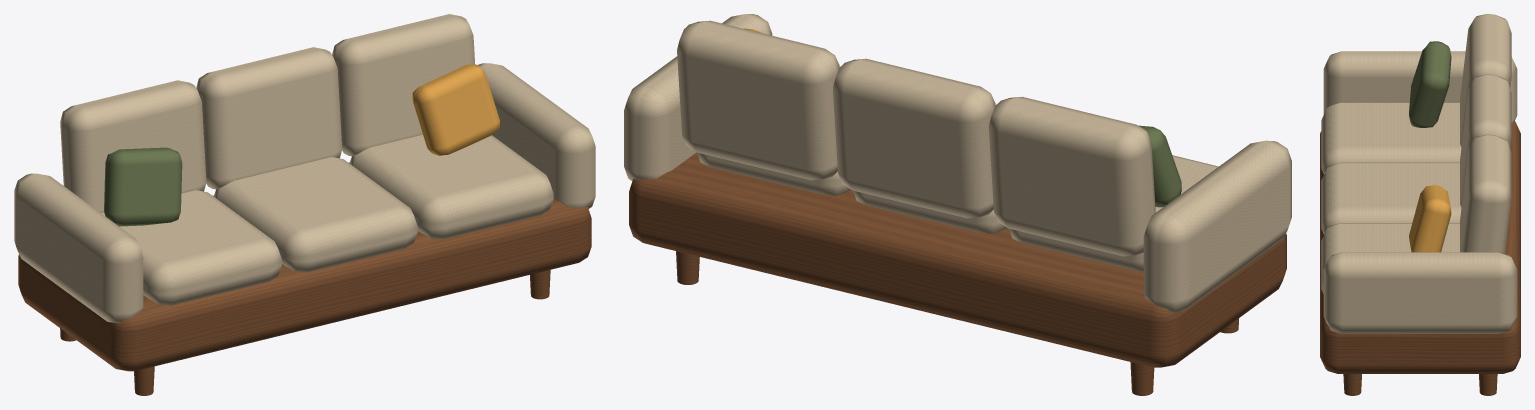
Rendered from sofa-7c56be1322ac.glb.
3 views of the same model, side by side, from view 1: azimuth 30°, elevation 25°; view 2: azimuth 150°, elevation 25°; view 3: azimuth 270°, elevation 25° (orthographic). The views are drawn at different scales.
Visible parts, largest first — view 1: surface_linen, surface_walnut, surface_olive, surface_ochre; view 2: surface_linen, surface_walnut, surface_olive; view 3: surface_linen, surface_walnut, surface_olive, surface_ochre.
Part boxes in pixels (x1,y1,x2,y2): surface_linen: (14,14,595,323); surface_walnut: (18,162,591,395); surface_olive: (104,147,182,226); surface_ochre: (412,64,499,155); surface_linen: (624,14,1291,312); surface_walnut: (629,152,1286,395); surface_olive: (1139,125,1181,207); surface_linen: (1321,14,1517,333); surface_walnut: (1320,121,1520,395); surface_olive: (1409,41,1451,127); surface_ochre: (1409,185,1451,252).
Size of the model in its own units: 2.14 by 0.9455 by 0.83.
4 materials, 2 textured.
